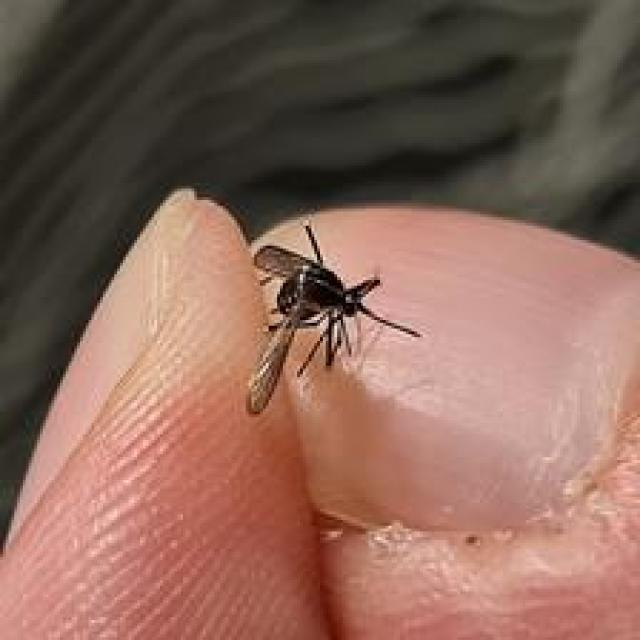Aedes albopictus: (244, 218, 422, 416)
